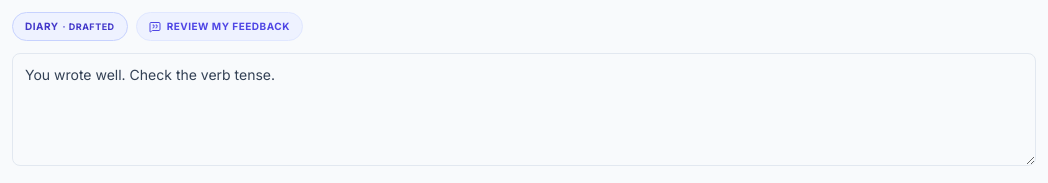
fixable server error codes offer the action › other codes show the message only
Click the button "Review my feedback": point(219, 26) 136,12 -> 303,41
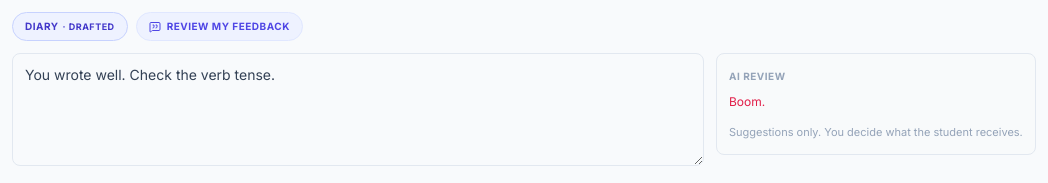
Now the message "Boom." is shown, box 729,94 -> 765,109
